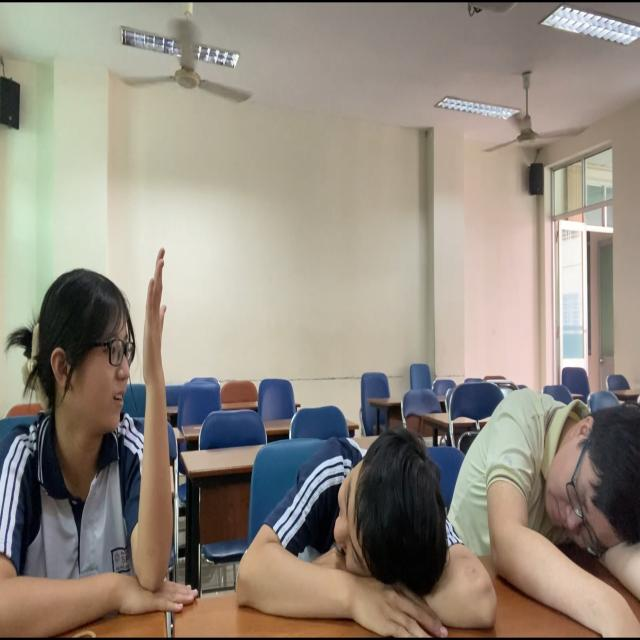raise_hand: (1, 236, 174, 640)
sleep: (237, 424, 450, 640), (465, 391, 640, 640)
